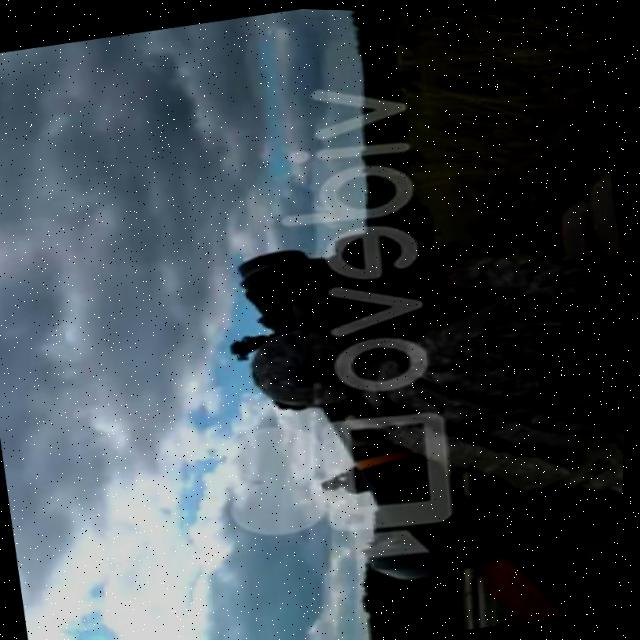rocket: (211, 207, 555, 604)
